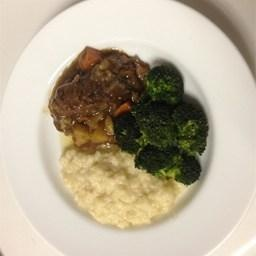background: (18, 18, 83, 91)
